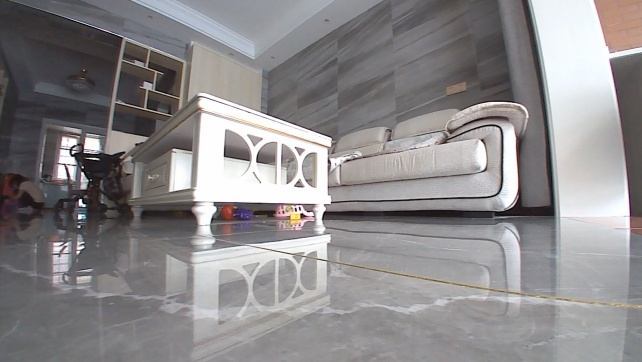plastic_toy: (217, 204, 254, 222), (288, 211, 301, 222)
sofa: (333, 98, 535, 222)
tea_table: (121, 89, 335, 226)
